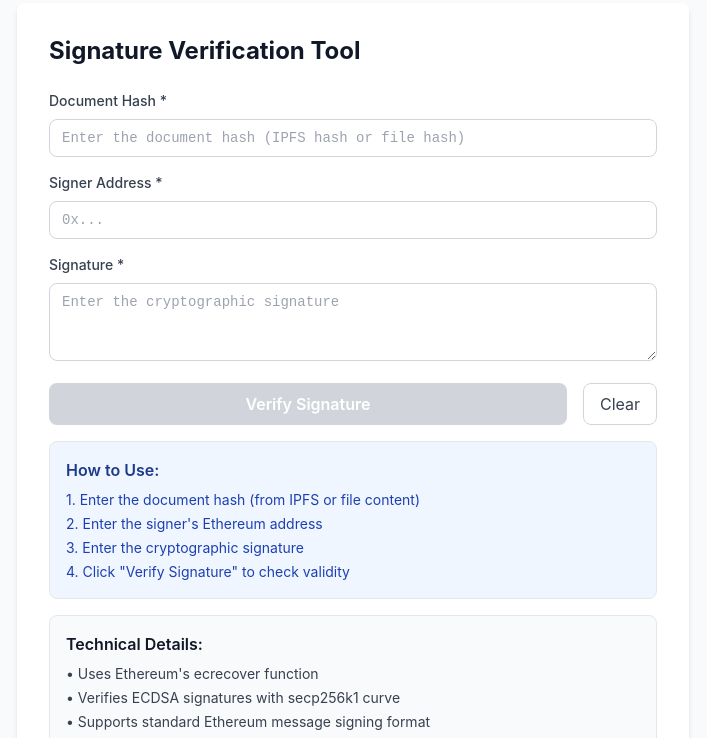
Test case: SignatureVerifier Component › shows error message for invalid signature
Type "0x1234567890abcdef" into the field with placeholder "Enter the document hash (IPFS hash or file hash)" at (353, 138), box [49,119,657,157]
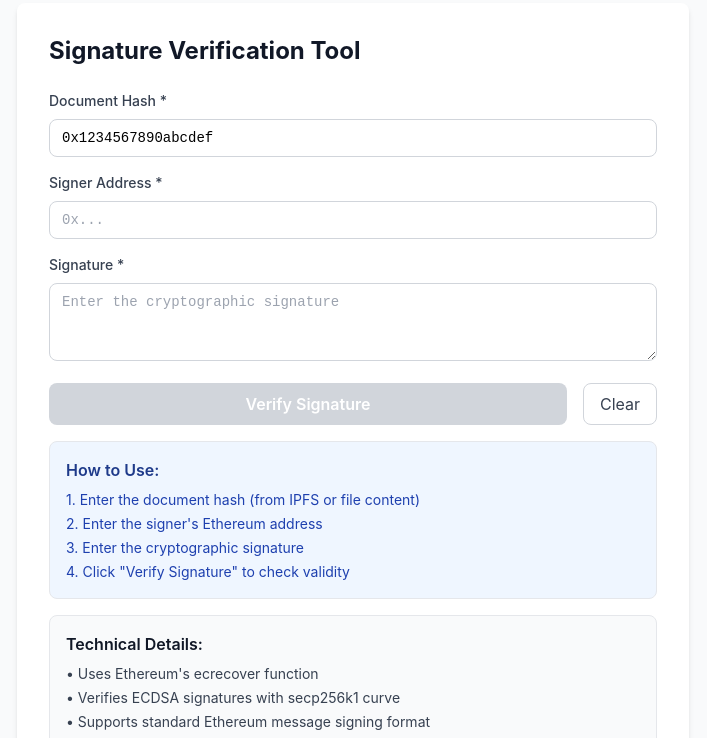
Type "0xabcdef1234567890" into the field with placeholder "0x..." at (353, 220), box [49,201,657,239]
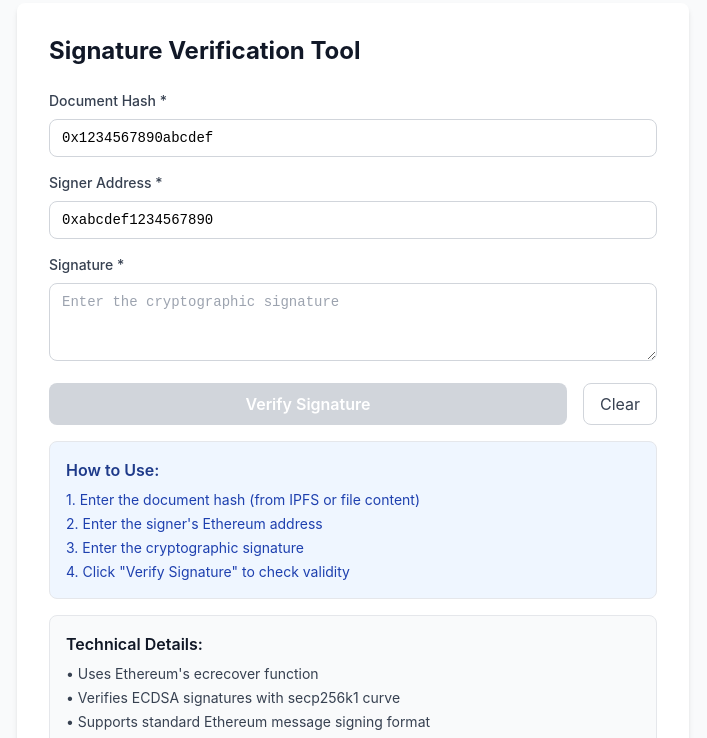
Type "0xsignature123" into the text box with placeholder "Enter the cryptographic signature" at (353, 322), box [49,283,657,361]
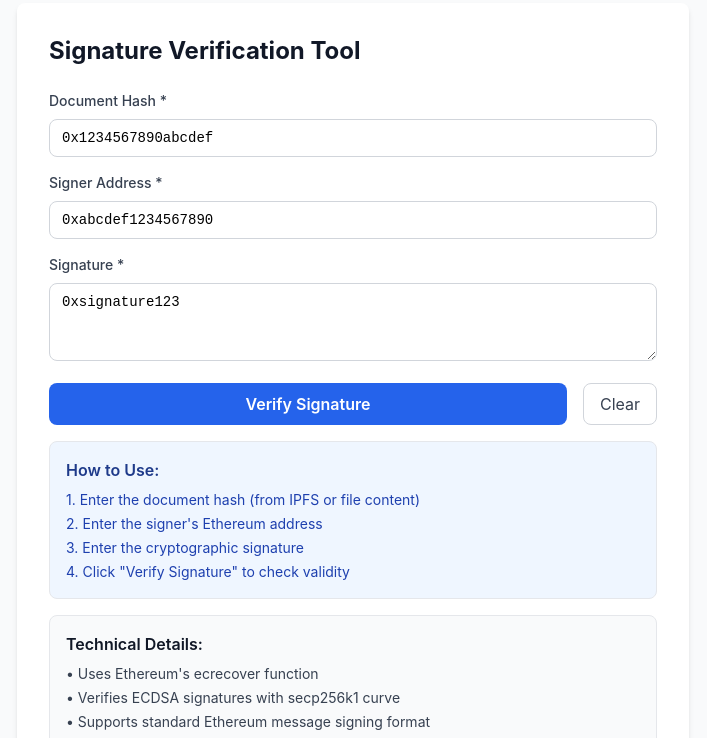
Click the button "Verify Signature" at (308, 404), box [49,383,567,425]
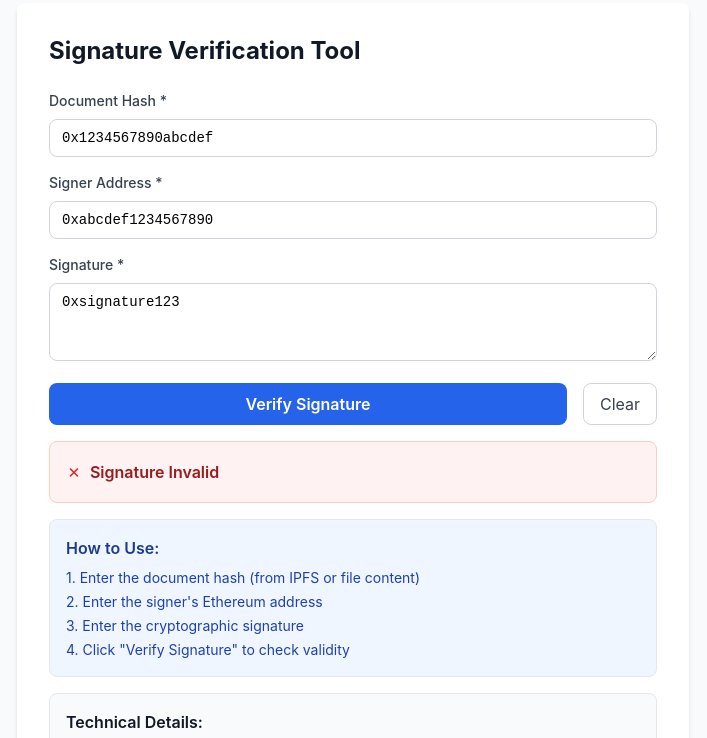
expect the heading "Signature Invalid" is shown: met, box [90,460,219,484]
expect the text "✗" is shown: met, box [66,458,82,486]
